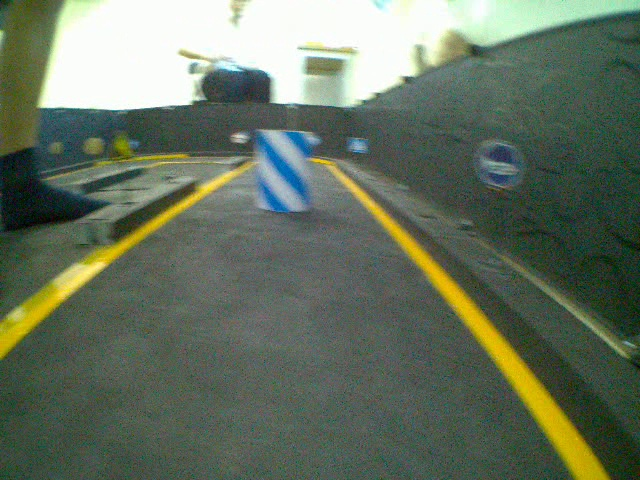bucket: (254, 124, 316, 215)
